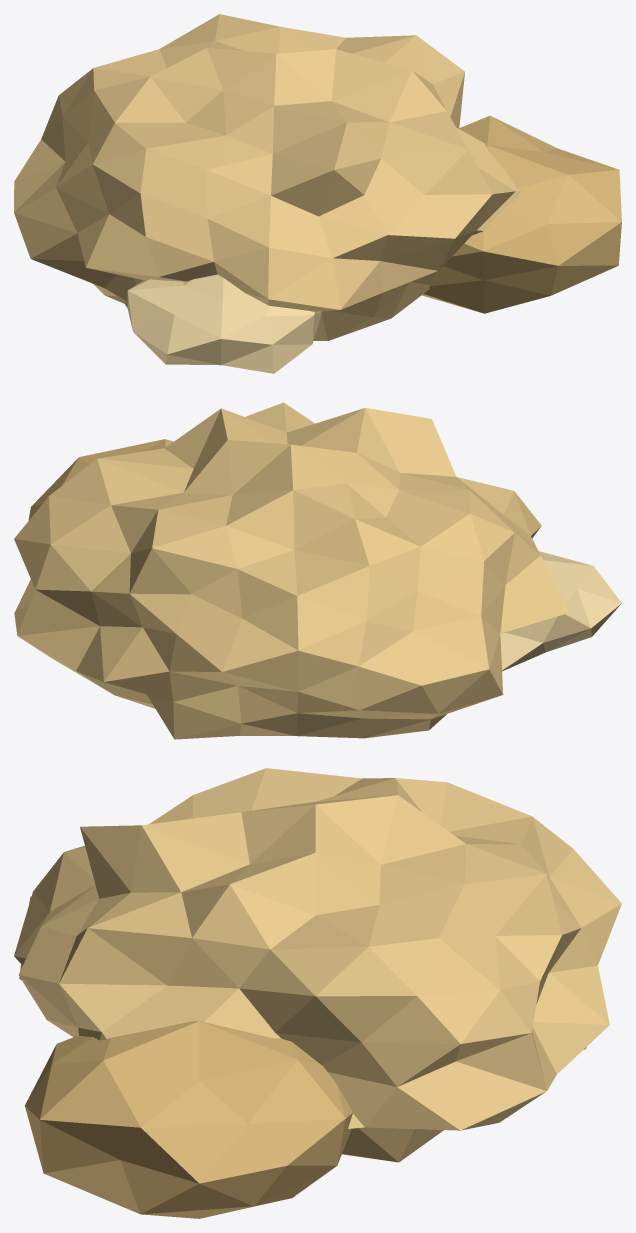
Rendered from sand_pile.glb.
3 views of the same model, one above another, from view 1: azimuth 30°, elevation 25°; view 2: azimuth 150°, elevation 25°; view 3: azimuth 270°, elevation 25° (orthographic). The views are drawn at different scales.
Parts seen in each view (by area): view 1: root; view 2: root; view 3: root.
Boxes of the visible parts, left/top/right/bottom form: root: left=14, top=14, right=621, bottom=373; root: left=14, top=402, right=621, bottom=739; root: left=14, top=768, right=621, bottom=1218.
Bounding box in the file's own units: 1.27 × 0.5897 × 1.05.
